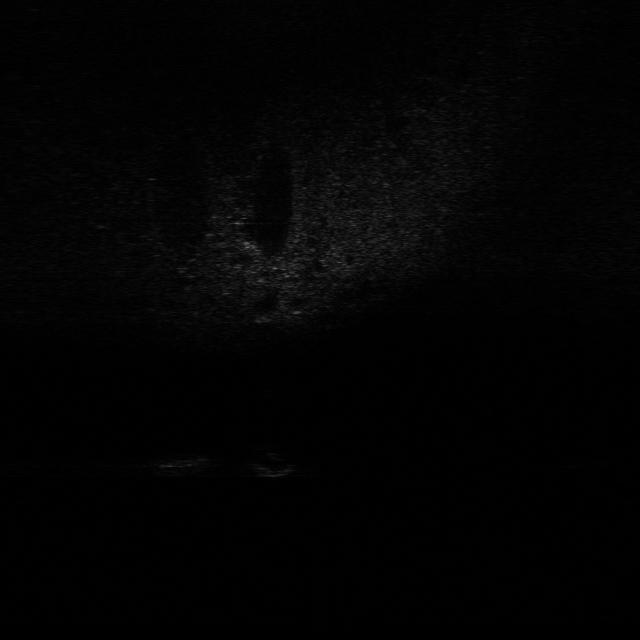ball: (244, 444, 307, 482)
circle cage: (150, 441, 216, 481)
